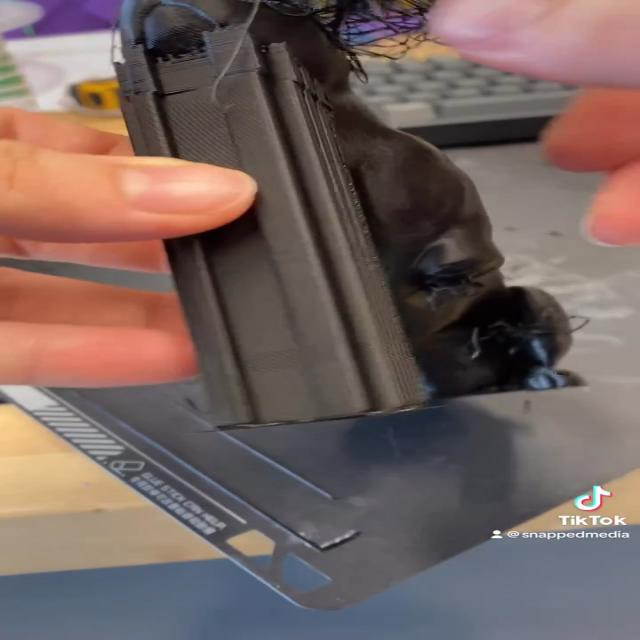spaghetti: (263, 0, 453, 60)
